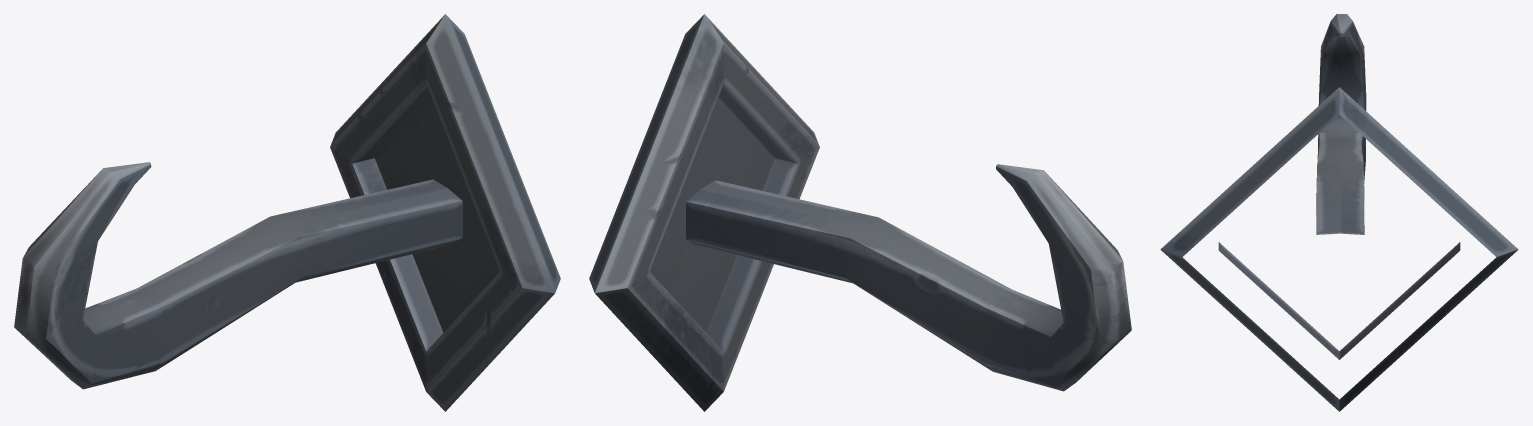
File: SM_Lantern_Hook.gltf
The picture shows the model from 3 angles, left to right: view 1: azimuth 30°, elevation 25°; view 2: azimuth 150°, elevation 25°; view 3: azimuth 270°, elevation 25°; orthographic projection. The views are drawn at different scales.
Visible parts, largest first — view 1: SM_Lantern_Hook_LOD0; view 2: SM_Lantern_Hook_LOD0; view 3: SM_Lantern_Hook_LOD0.
Part boxes in pixels (<box>): SM_Lantern_Hook_LOD0: <box>14,14,560,411</box>; SM_Lantern_Hook_LOD0: <box>589,14,1131,411</box>; SM_Lantern_Hook_LOD0: <box>1160,14,1518,411</box>.
Size of what is drawn, in the model's own units: 0.3048 by 0.2619 by 0.2619.
Materials: 1 (1 with a texture image).
